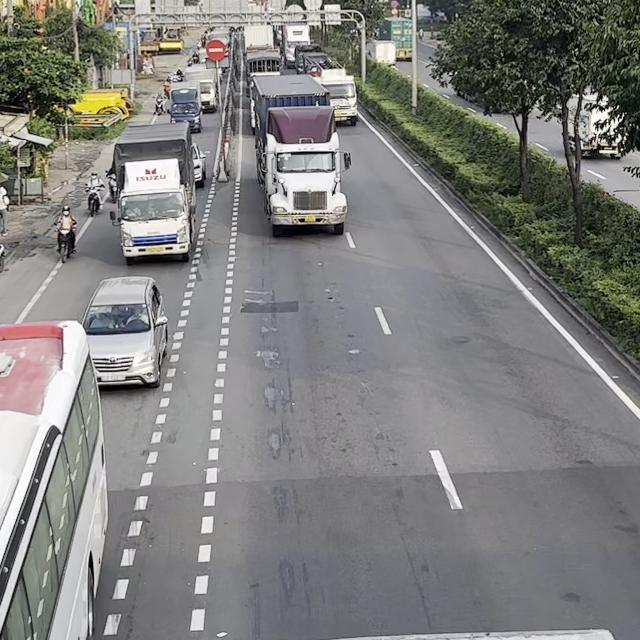bus: (0, 319, 109, 639)
car: (80, 275, 168, 389), (190, 142, 207, 187)
motorcycle: (53, 220, 77, 262), (84, 183, 104, 217), (104, 170, 117, 202), (152, 95, 165, 115)
truck: (251, 74, 352, 237), (112, 121, 202, 262), (306, 54, 358, 126), (166, 81, 202, 133), (185, 64, 218, 112)
